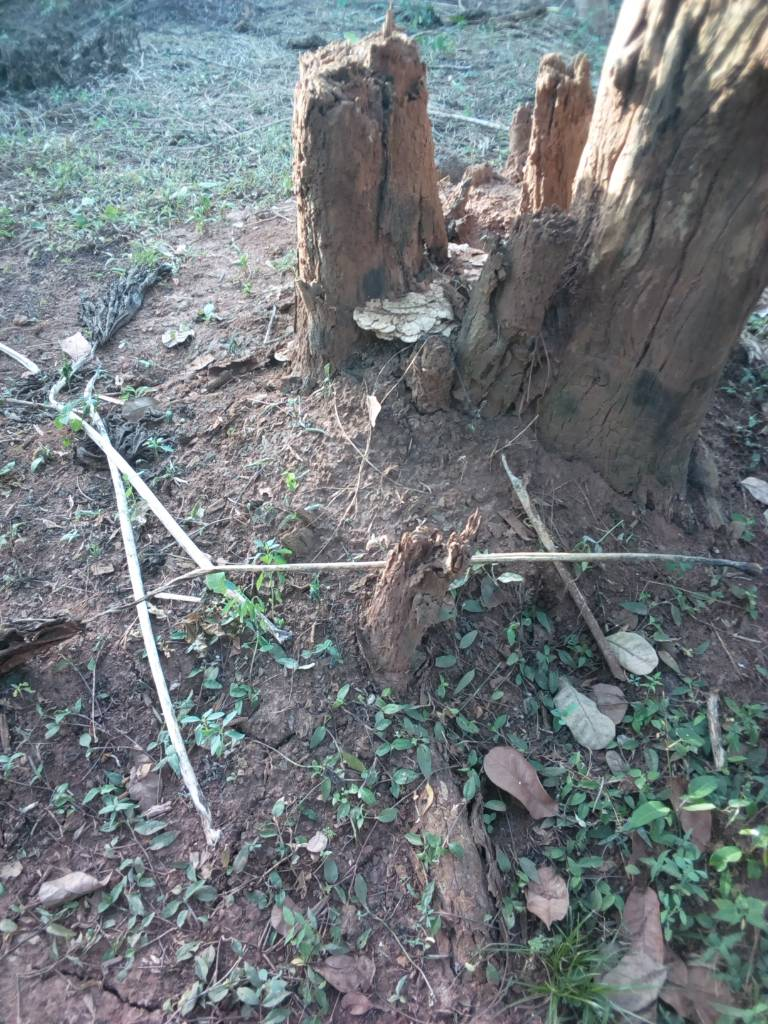Termites: (302, 32, 438, 357), (457, 211, 586, 400), (524, 50, 583, 199)
